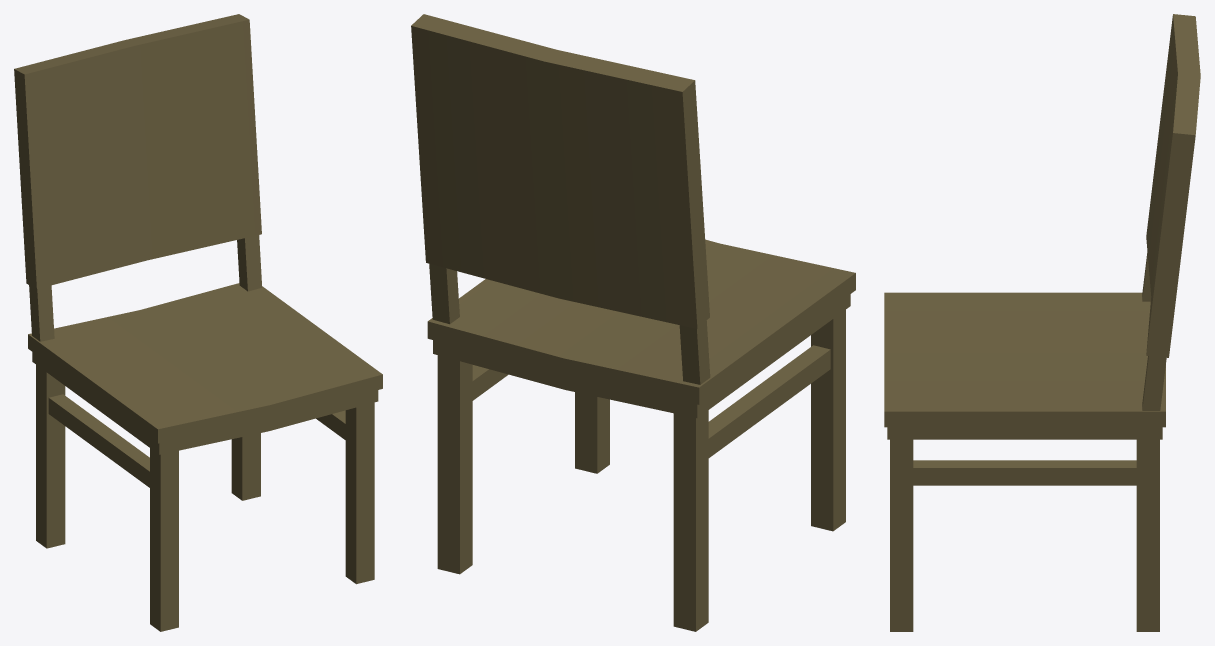
The model's file is Chair.fbx.
3 views of the same model, side by side, from view 1: azimuth 30°, elevation 25°; view 2: azimuth 150°, elevation 25°; view 3: azimuth 270°, elevation 25° (orthographic). The views are drawn at different scales.
Parts seen in each view (by area): view 1: chair; view 2: chair; view 3: chair.
Part boxes in pixels (x1,y1,x2,y2): chair: (14, 14, 382, 631); chair: (411, 14, 855, 631); chair: (884, 14, 1200, 631).
Bounding box in the file's own units: 114 × 224 × 128.
